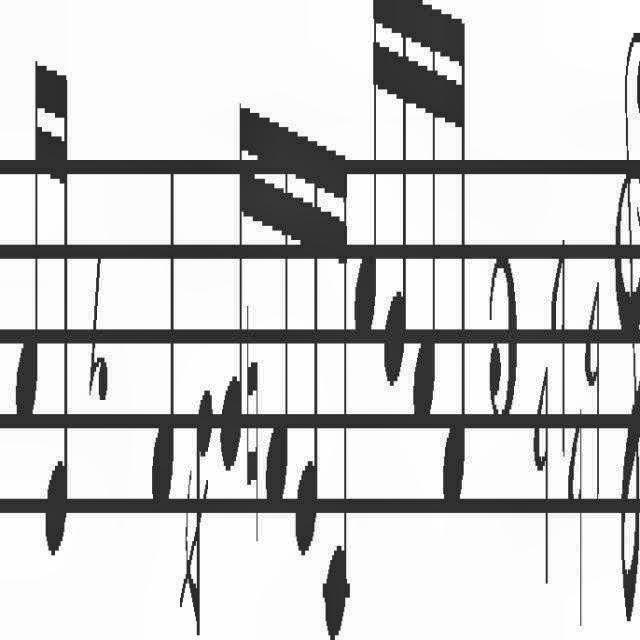Bass-clef: (612, 29, 640, 632)
Bemol: (532, 356, 548, 600), (584, 270, 600, 506), (566, 400, 582, 634), (550, 236, 566, 464)
Eighth-rest: (90, 251, 110, 409)
Quarter-note: (150, 158, 176, 510)
Sixteenth-note: (322, 140, 352, 640), (43, 56, 69, 564), (441, 0, 466, 512), (220, 88, 248, 476), (296, 120, 320, 564), (352, 0, 382, 348), (414, 0, 438, 428), (14, 52, 41, 424), (265, 98, 289, 516), (384, 0, 408, 400)
